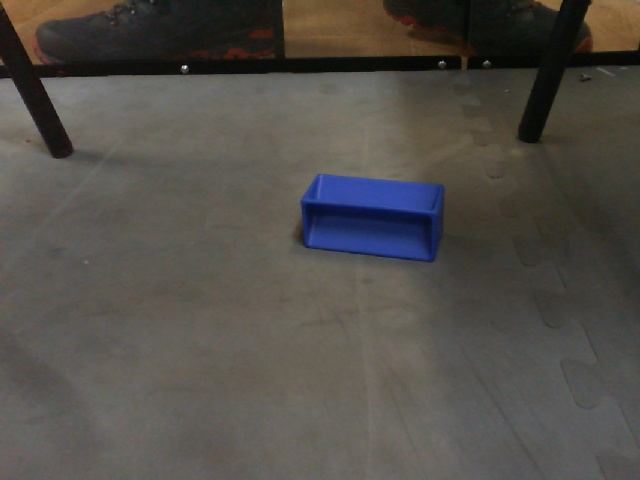BlueSample: (300, 168, 448, 273)
